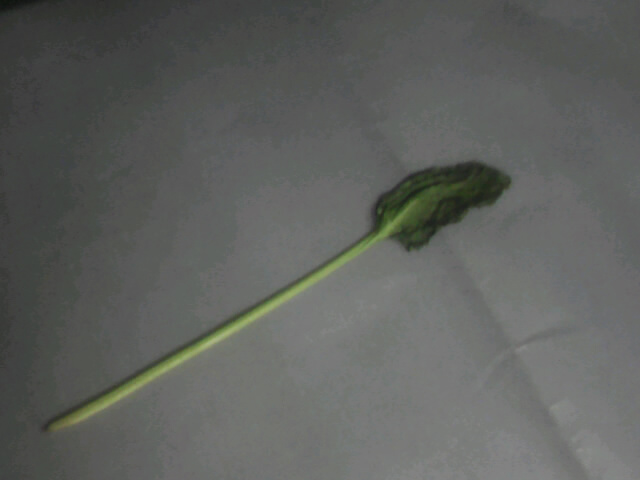yellow: (241, 150, 520, 314)
